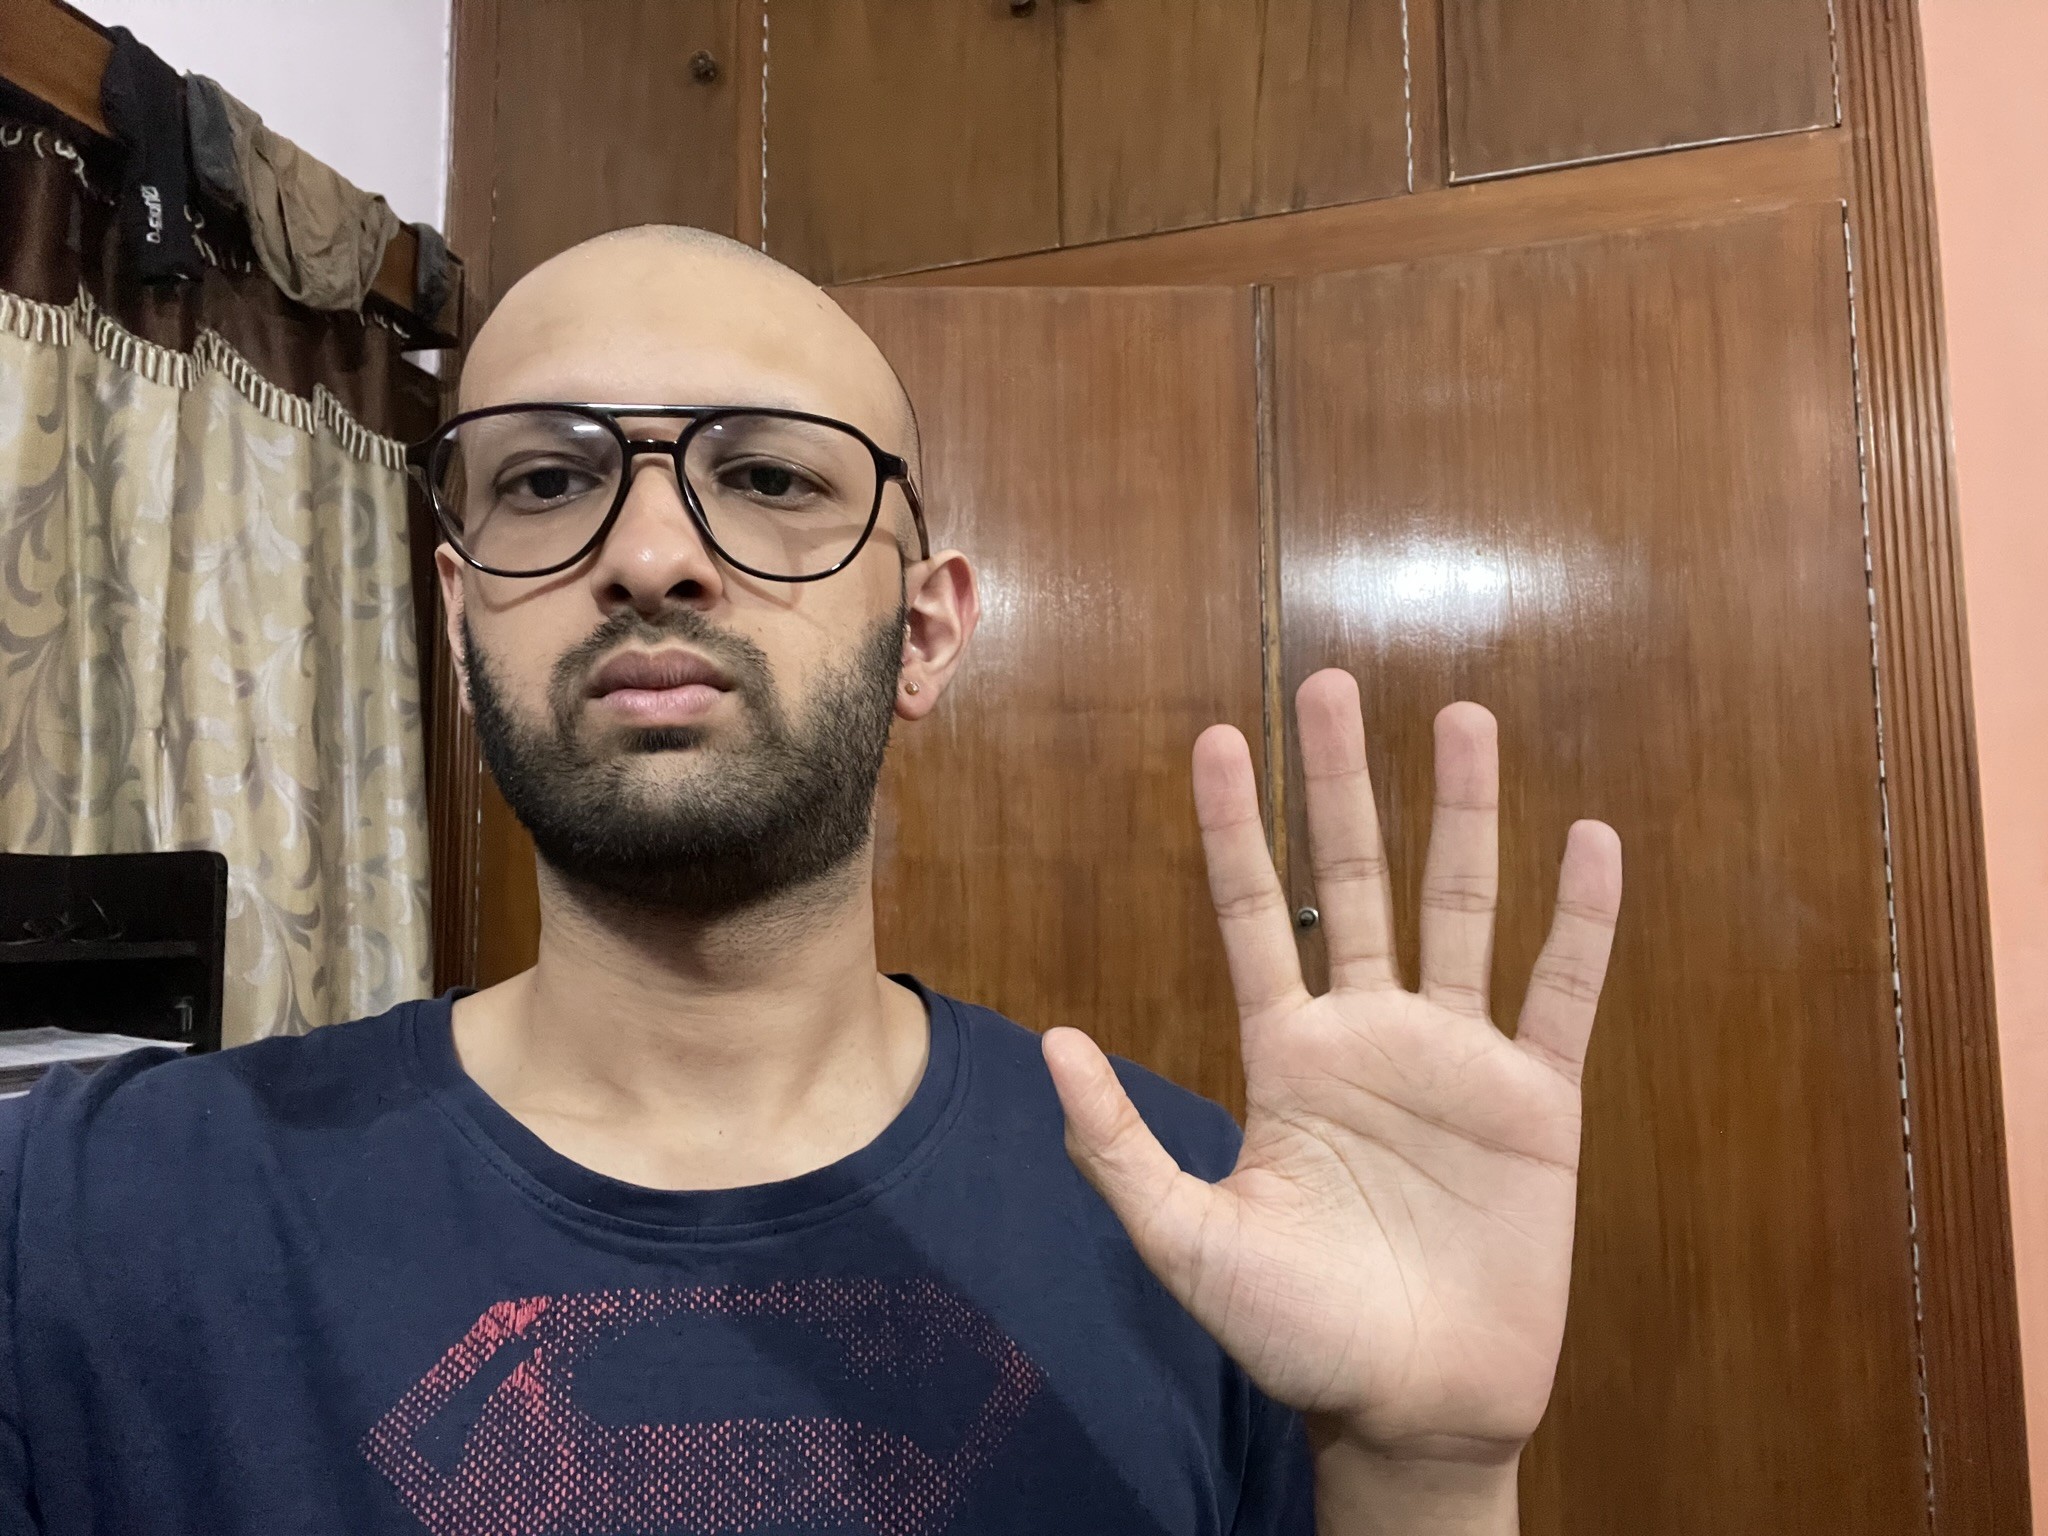Hello: (1030, 641, 1632, 1459)
